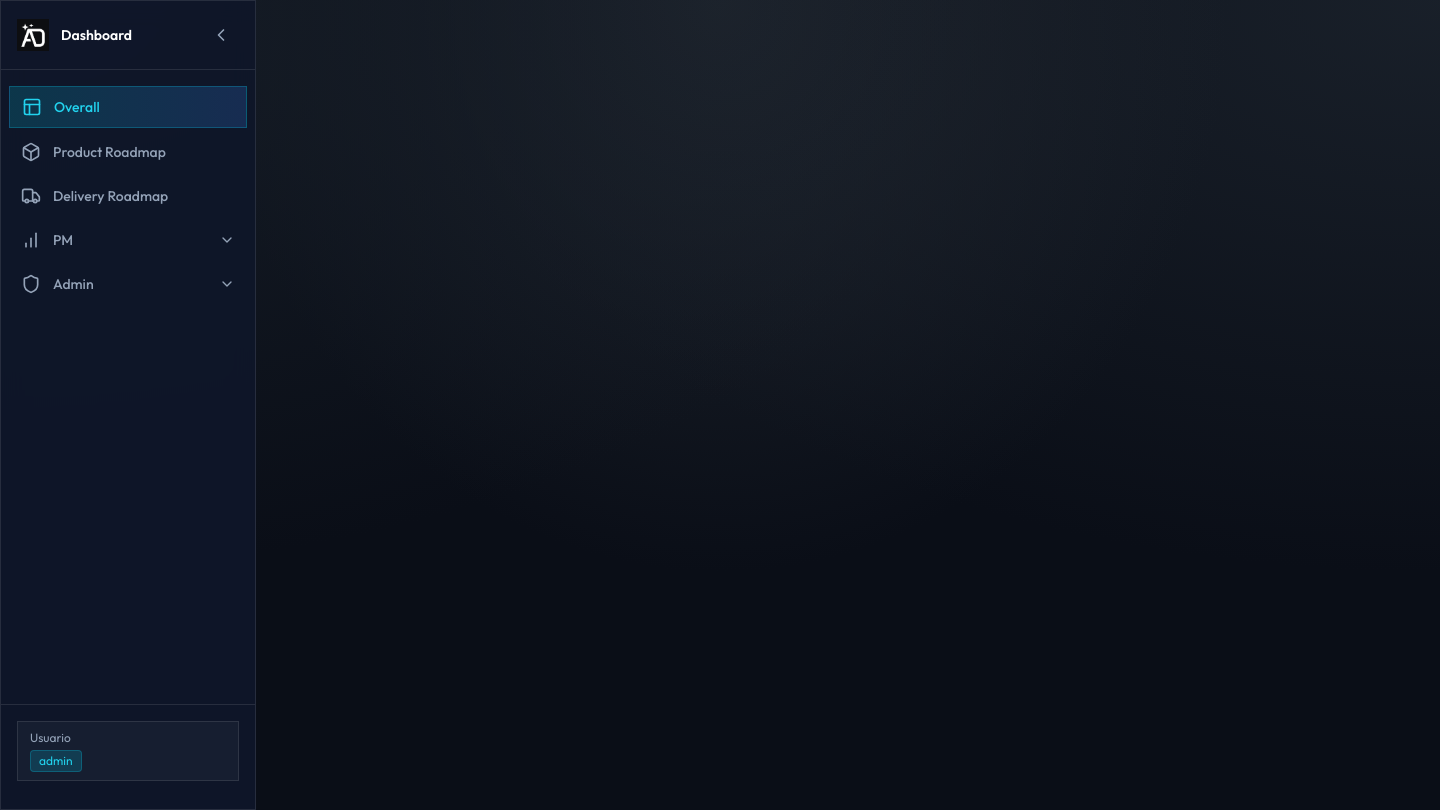
Sidebar › debe expandir submenú cuando se hace clic en un módulo con submenú
Click the button "PM". click: (128, 240)
box: [9,220,247,260]
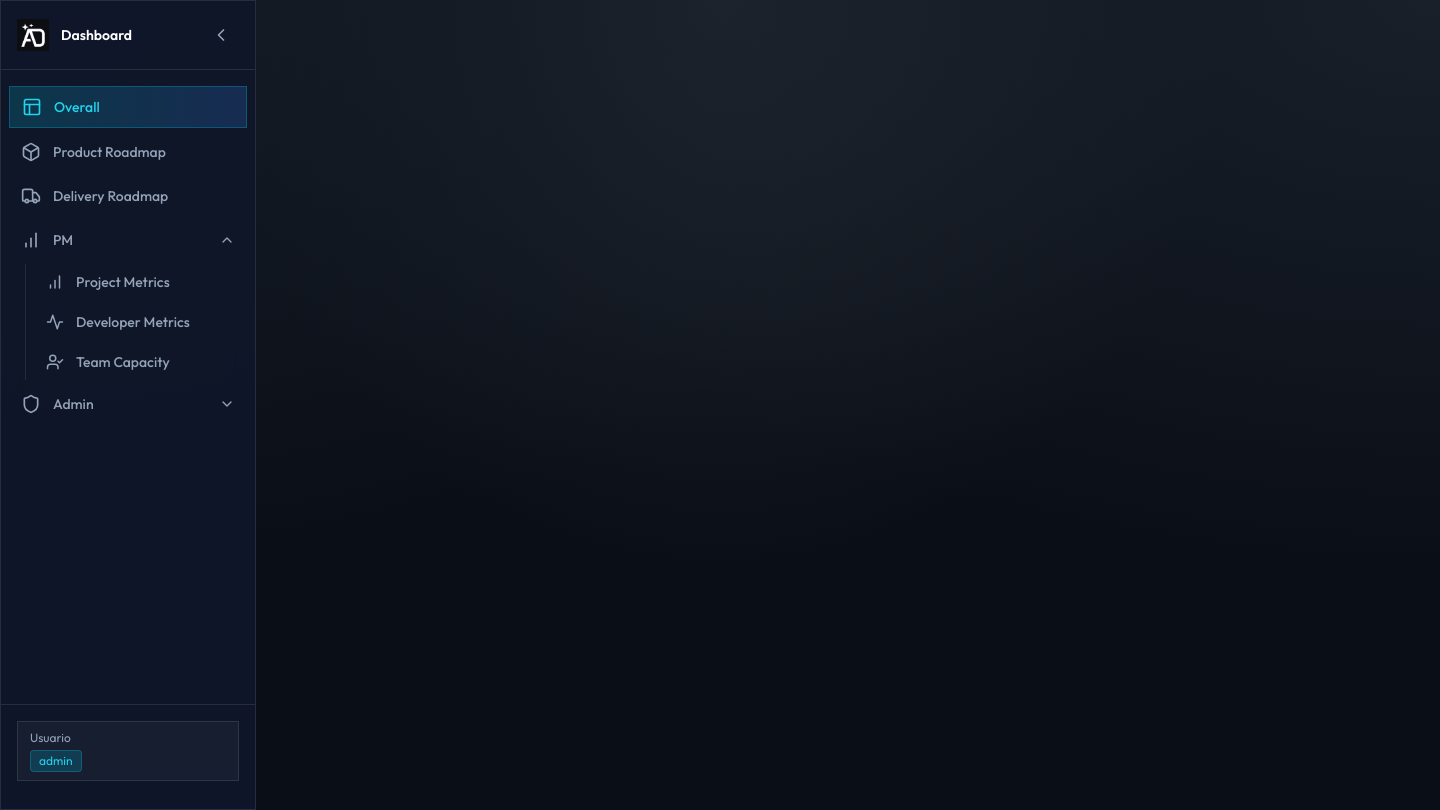
Expected: the text "Project Metrics" is shown, [76,272,170,292]
Expected: the text "Developer Metrics" is shown, [76,312,190,332]
Expected: the text "Team Capacity" is shown, [76,352,170,372]
